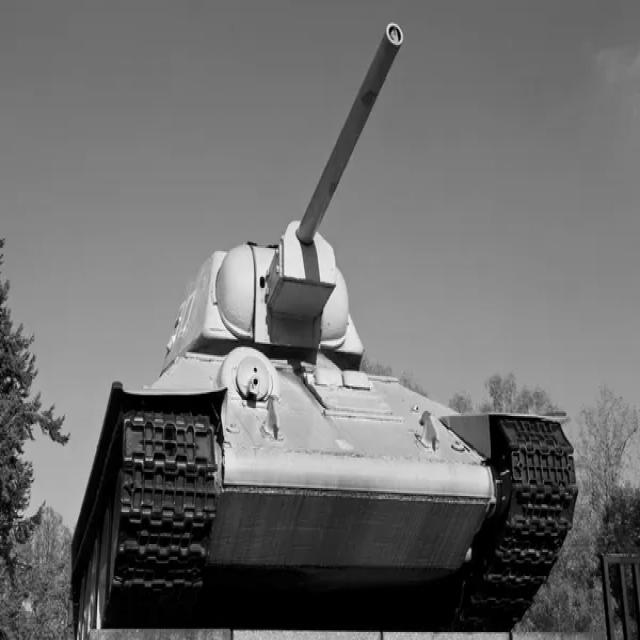Tank: (59, 15, 584, 634)
